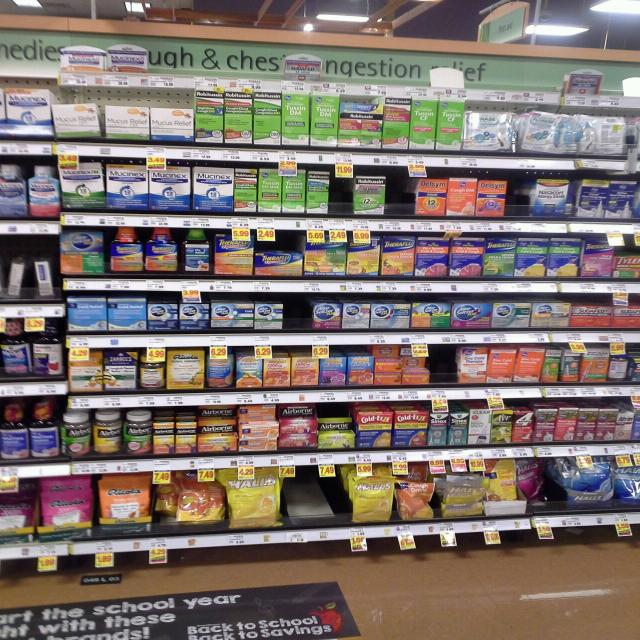void: (288, 468, 344, 542), (389, 174, 413, 230), (287, 294, 310, 346), (333, 170, 352, 228), (437, 348, 458, 398), (512, 177, 526, 235)
